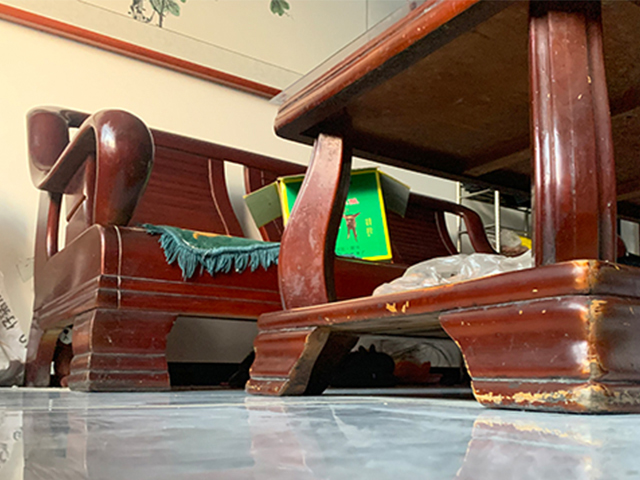sofa: (22, 104, 490, 394)
table: (244, 1, 640, 415)
